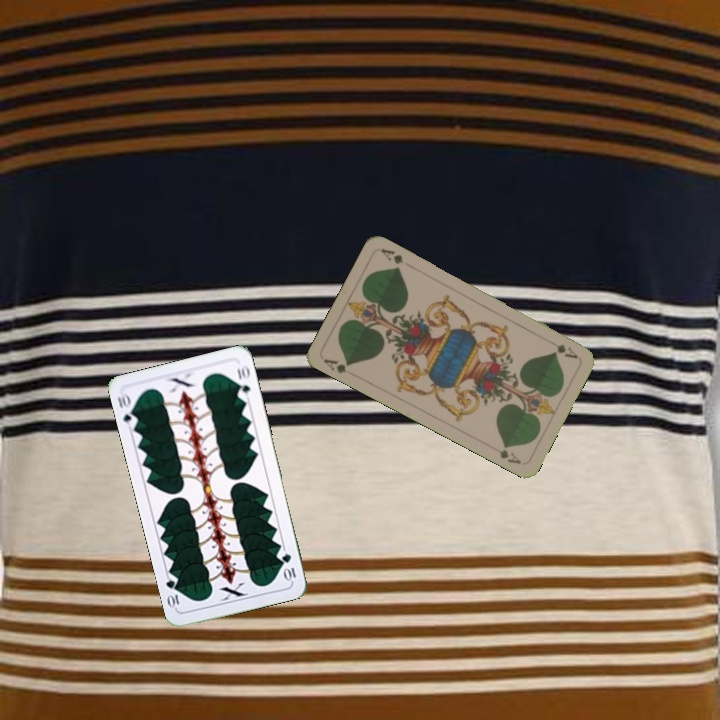G10: (113, 390, 140, 430), (278, 549, 298, 583)
GA: (544, 335, 580, 361), (319, 355, 354, 376)
